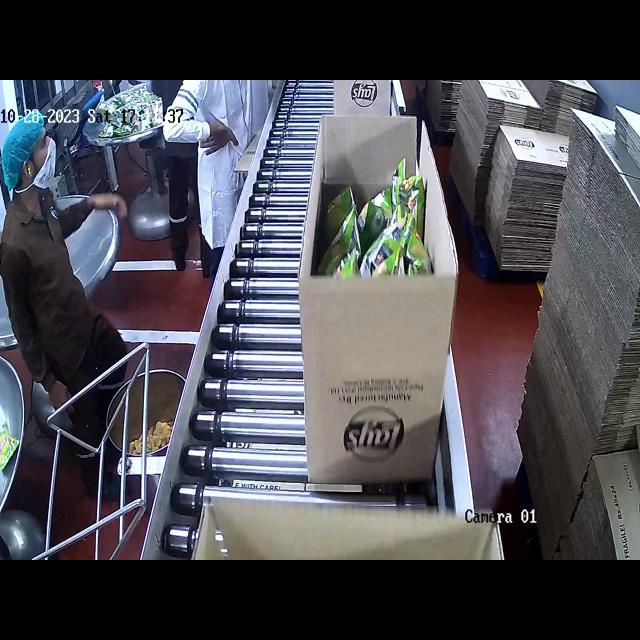yogurt: (322, 166, 434, 282)
